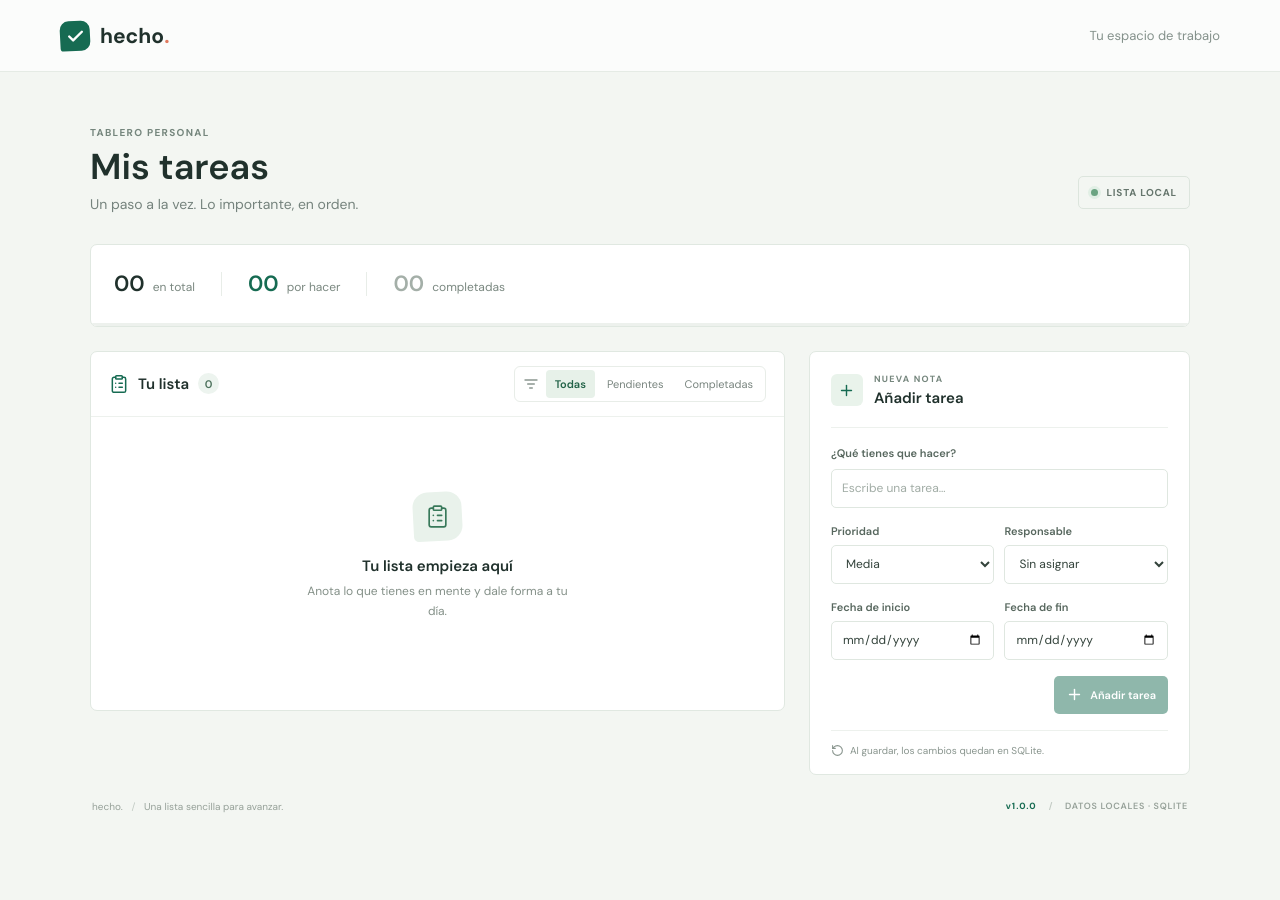
Test case: tablero de tareas › crea una tarea con los valores del formulario y la muestra en la lista
This screenshot has width=1280, height=900.
Expected: the heading "Tu lista empieza aquí" is shown, [362,556,513,576]
Type "Preparar entrega" into the field labelled "¿Qué tienes que hacer?" at [999, 488], box [831,469,1168,508]
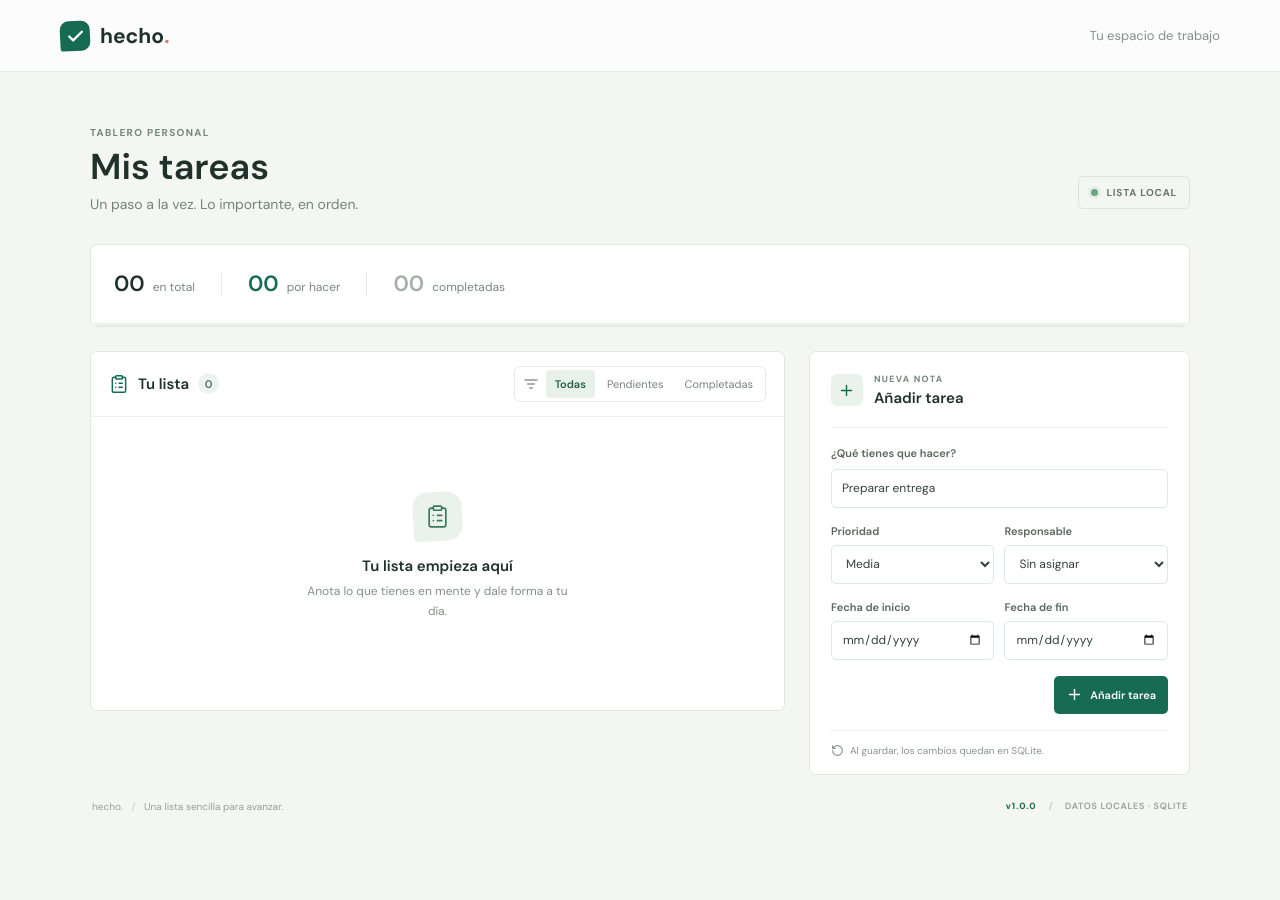
Select "Alta" in the dropdown labelled "Prioridad" at [913, 564], box [831,545,994,584]
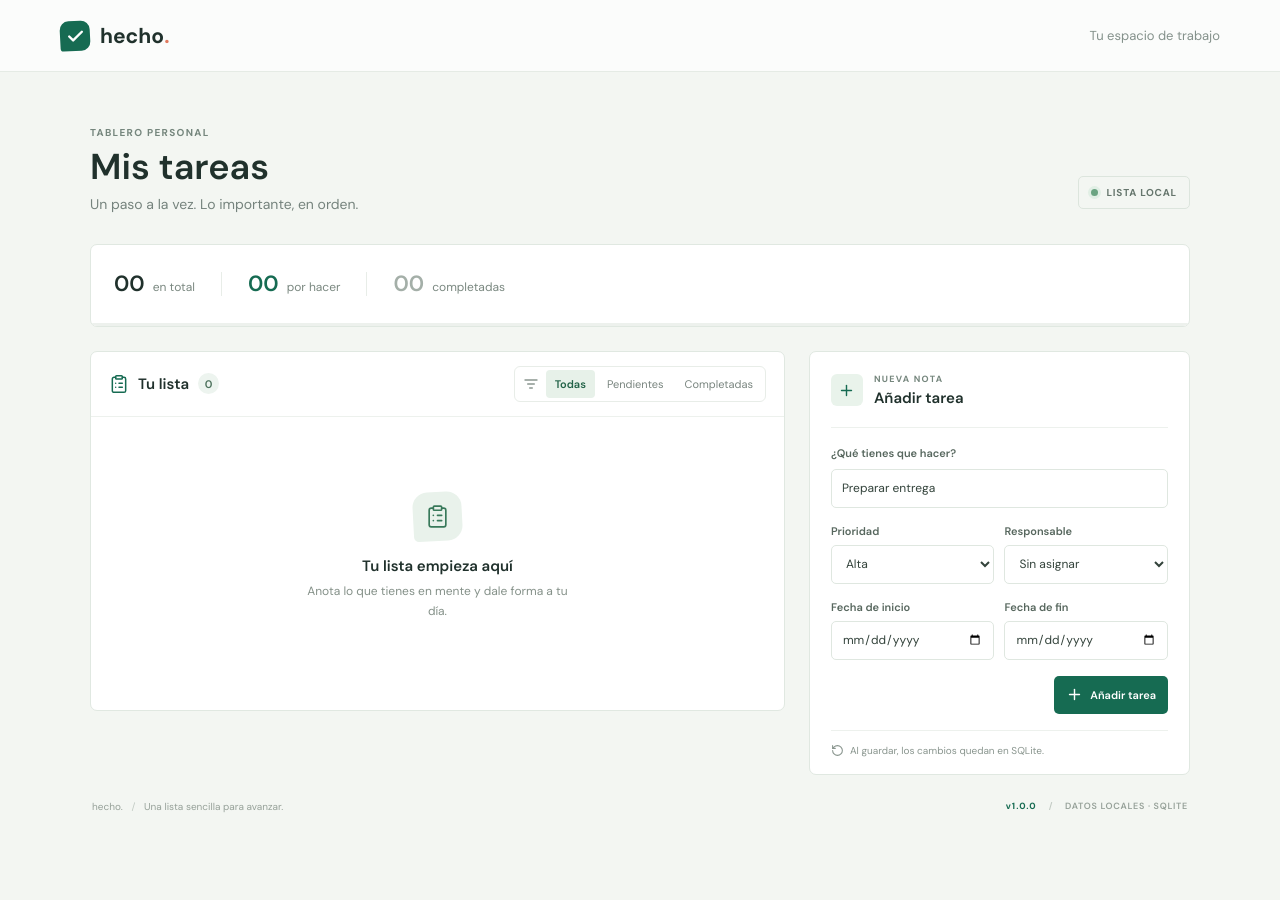
Select "Alex" in the dropdown labelled "Responsable" at [1086, 564], box [1004,545,1168,584]
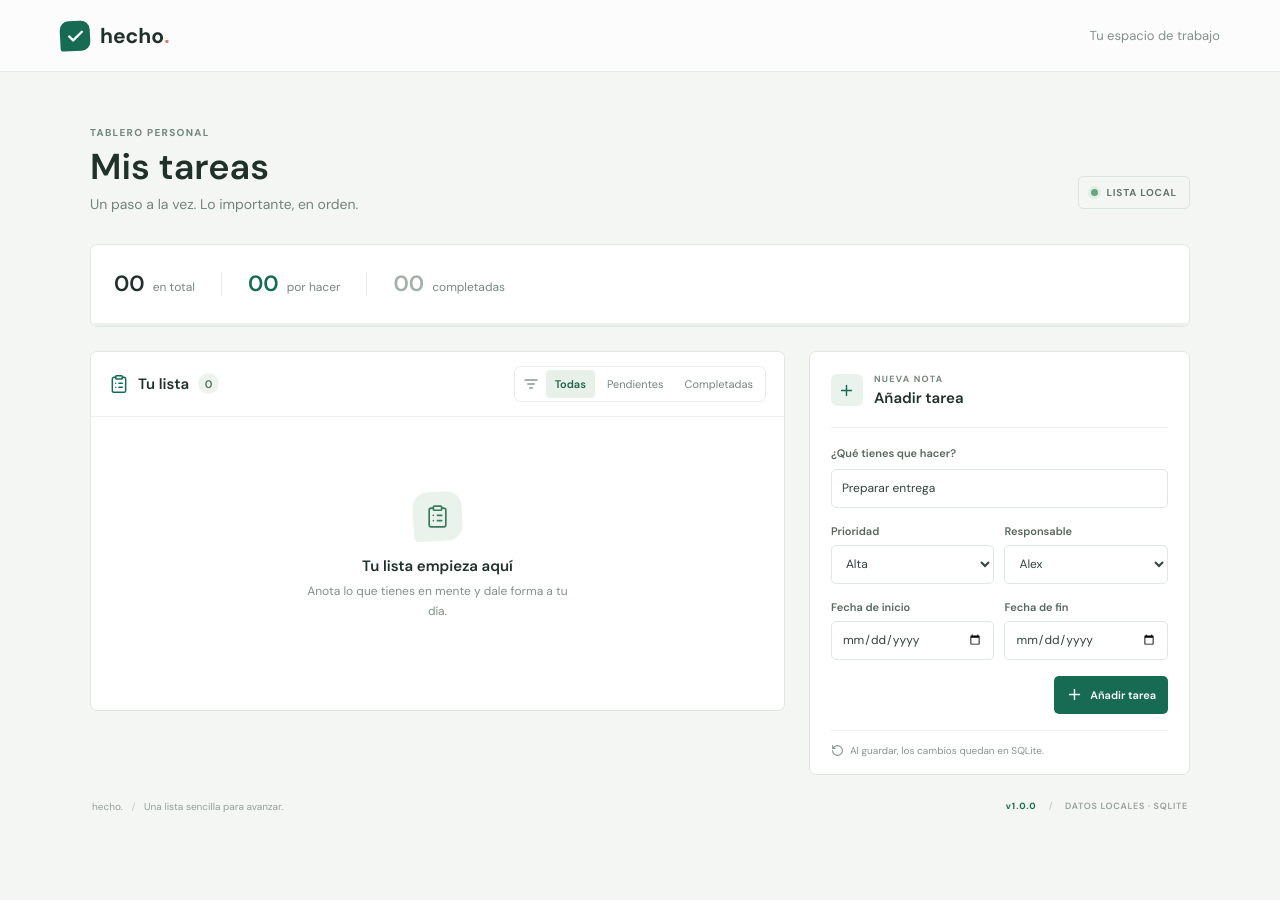
Click the button "Añadir tarea" at [1111, 695], box [1054,676,1168,714]
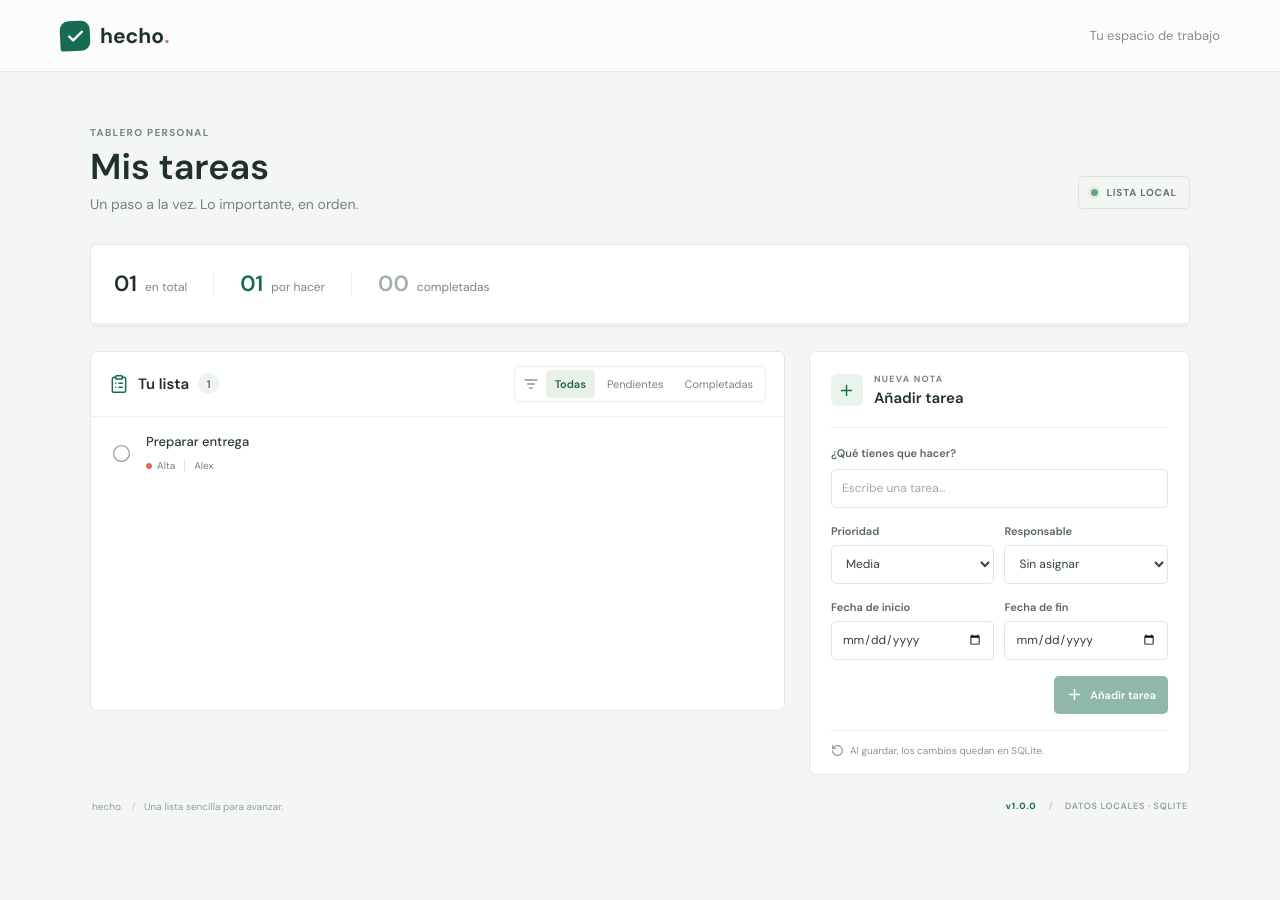
Expected: the text "Preparar entrega" is shown, [146,433,249,450]
Expected: the text "Alta" is shown, [146,459,175,472]
Expected: the text "Alex" is shown, [184,459,214,472]
